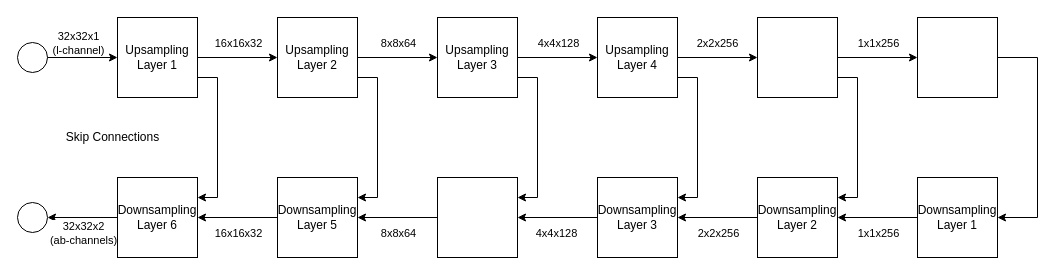
This 1063x275 diagram has some shape labels left out. The shapes that lost their labels are listed below. From the top down, each one's centre as x and y in pixels, then its label:
At pixel 32 57: "in".
At pixel 797 57: "Upsampling Layer 5".
At pixel 957 57: "Upsampling Layer 6".
At pixel 32 217: "out".
At pixel 477 217: "Downsampling Layer 4".
